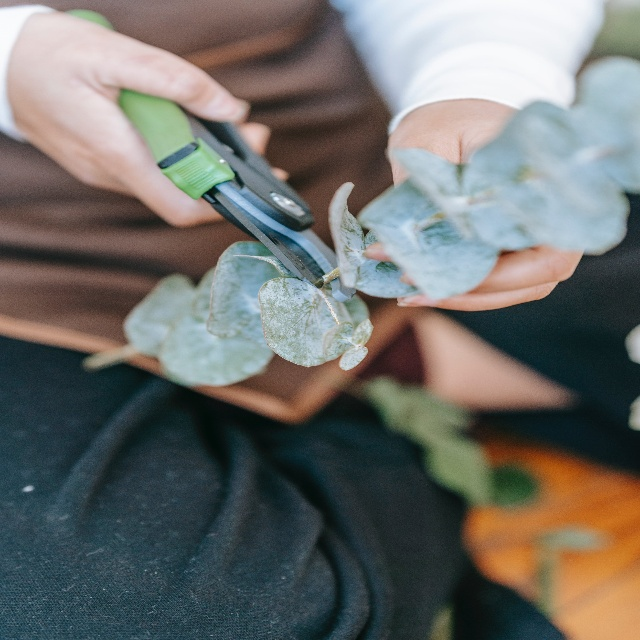Sin_guantes: (5, 0, 288, 238), (360, 107, 585, 313)
